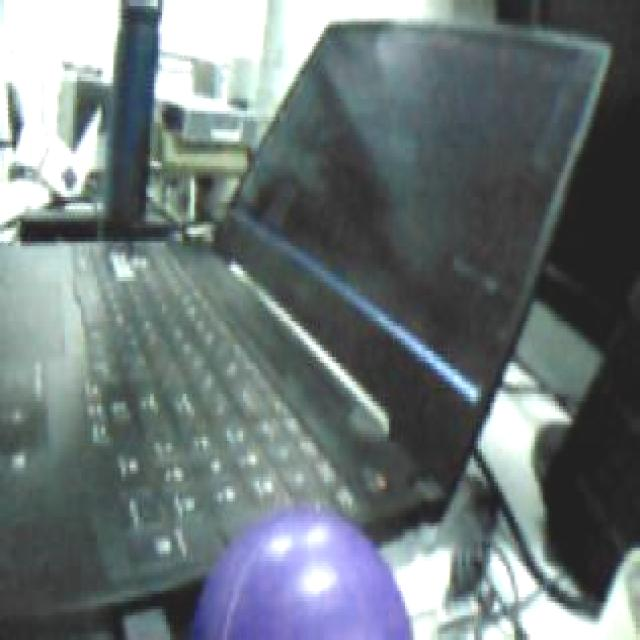BallPurple: (194, 509, 416, 640)
